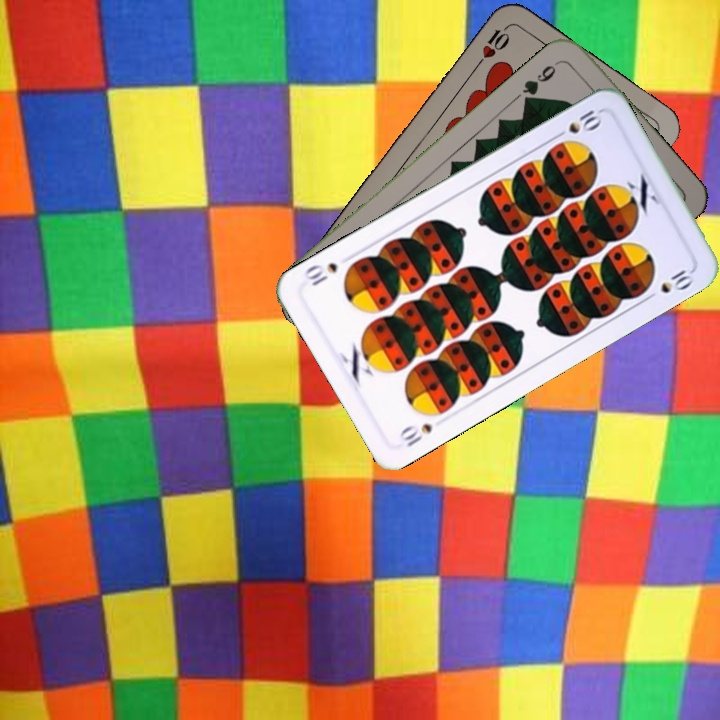G9: (518, 56, 563, 106)
H10: (471, 20, 513, 71)
S10: (549, 105, 605, 142), (395, 419, 435, 450)
